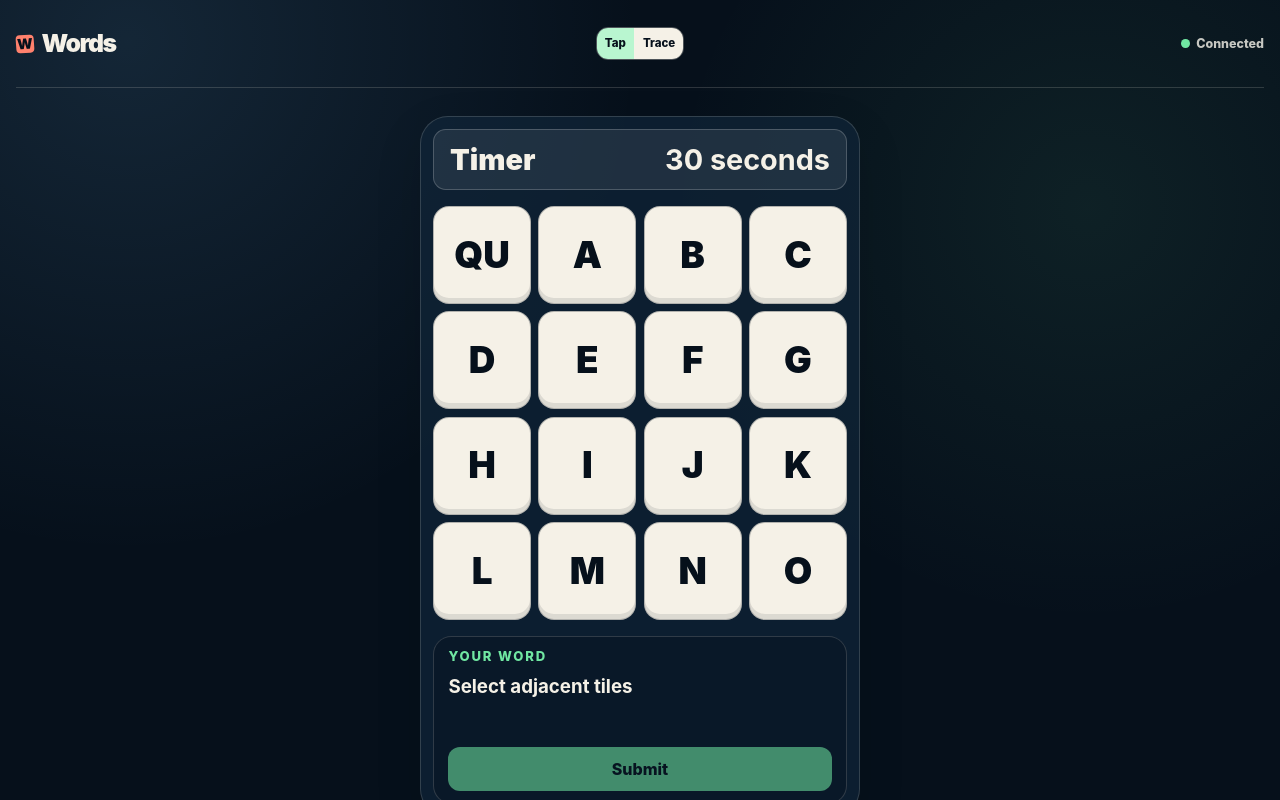
Test: Stage 4B display and player room routes › restores submission controls and retains the path after an unexpected client rejection
Click the button with aria-label "QU, tile 1". click: (482, 255)
box: [433, 206, 531, 304]
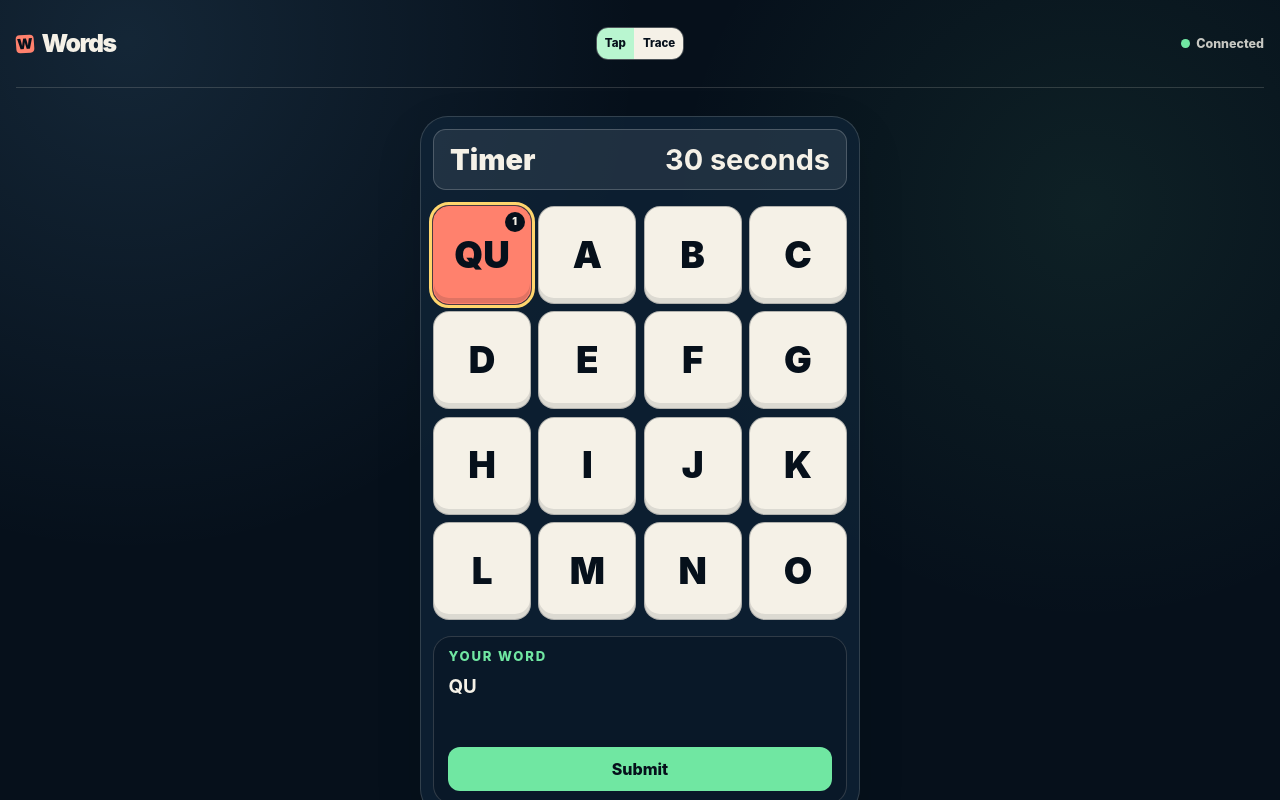
Click the button named "A, tile 2". click: (587, 255)
box: [538, 206, 636, 304]
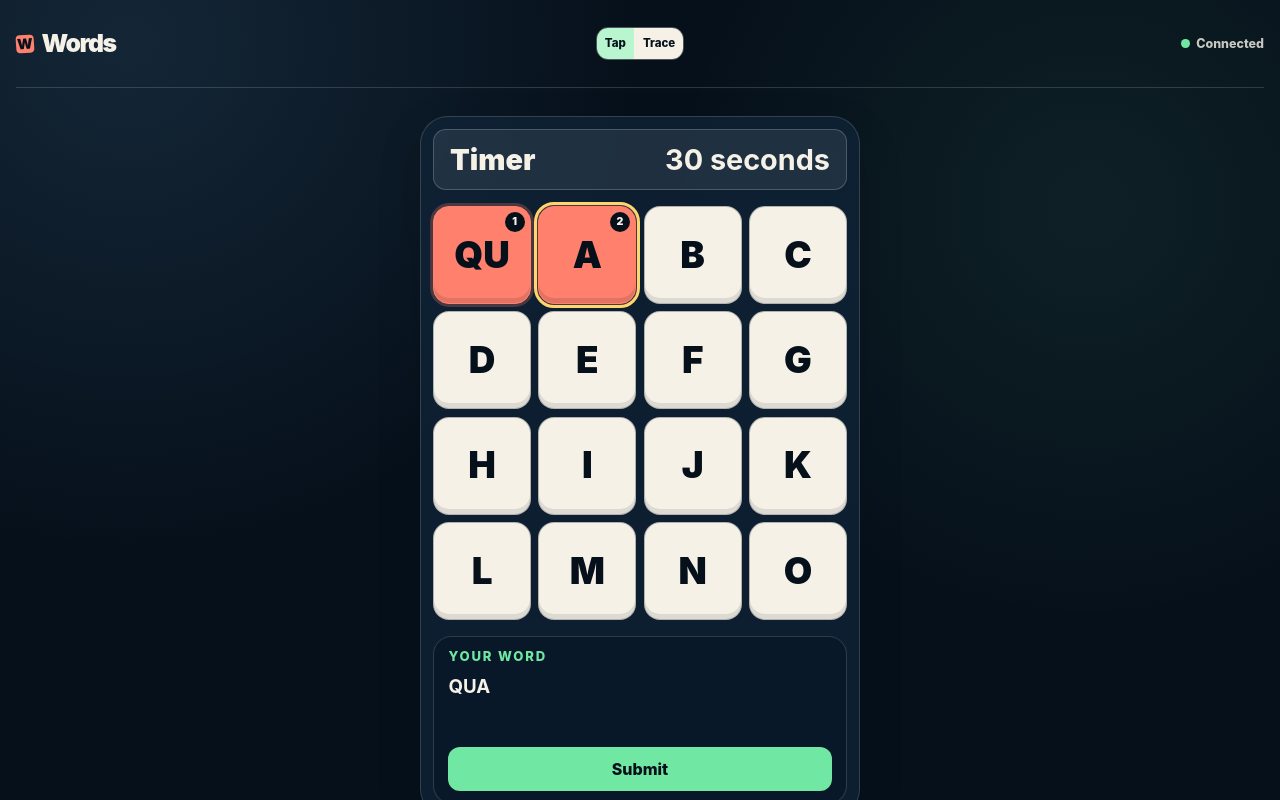
Click the button named "B, tile 3". click: (693, 255)
box: [644, 206, 742, 304]
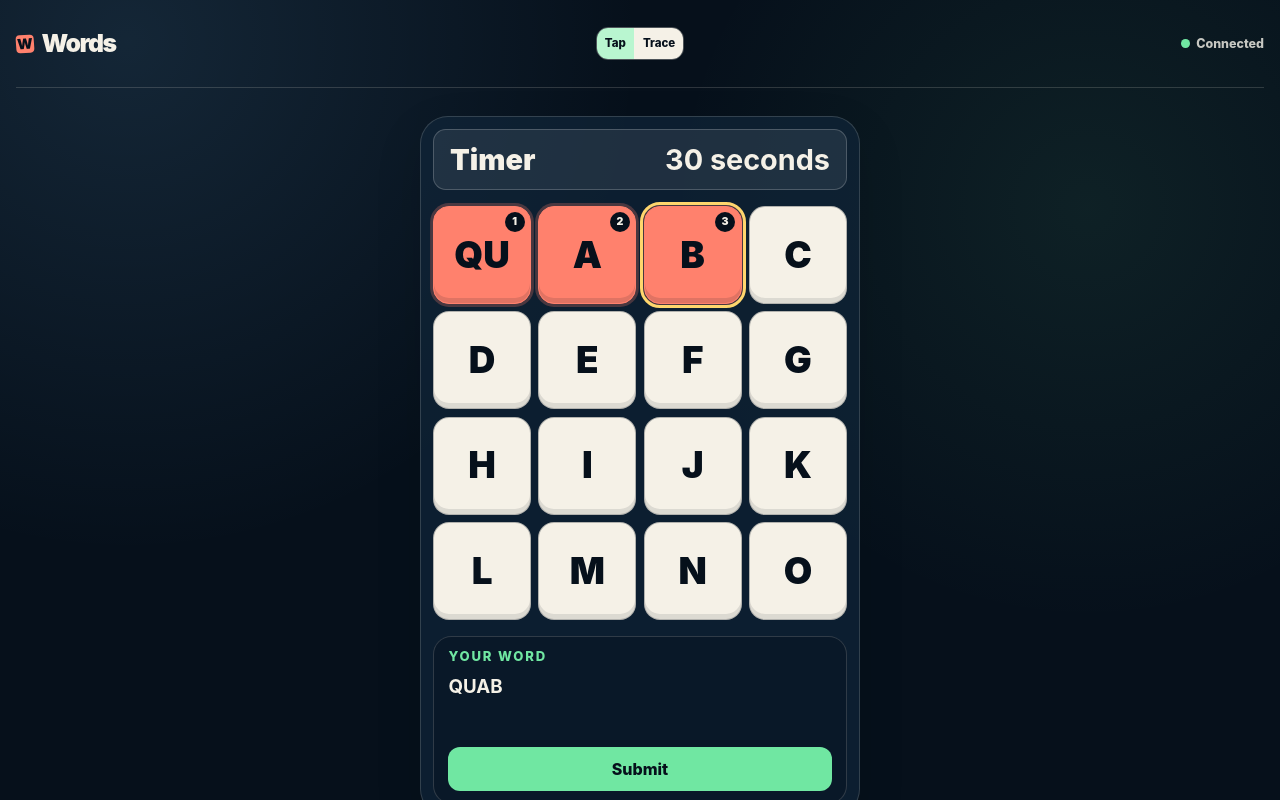
Click the button "Submit". click: (640, 769)
box: [448, 747, 832, 791]
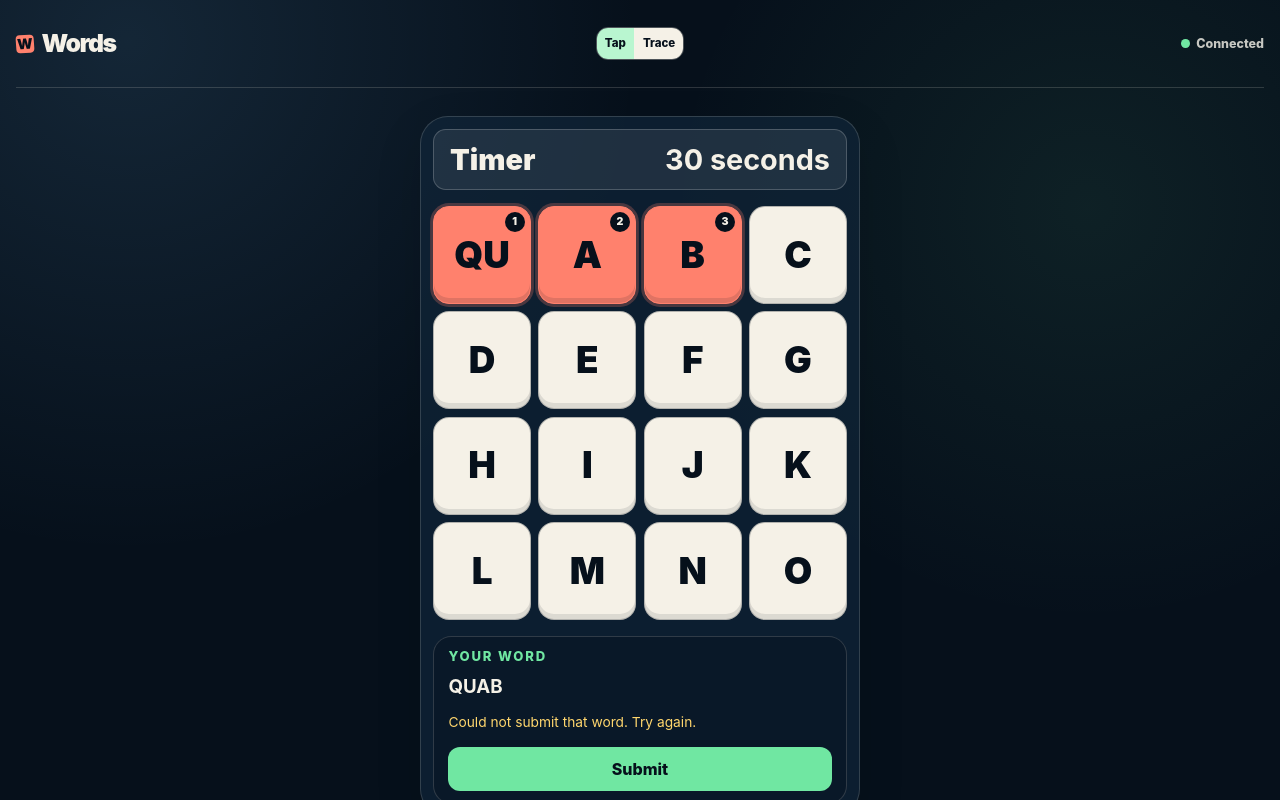
Expected: the heading "QUAB" is shown, [448, 675, 503, 698]
Expected: the button "Submit" is enabled, [448, 747, 832, 791]
Expected: the text "Could not submit that word. Try again." is shown, [448, 714, 696, 730]
